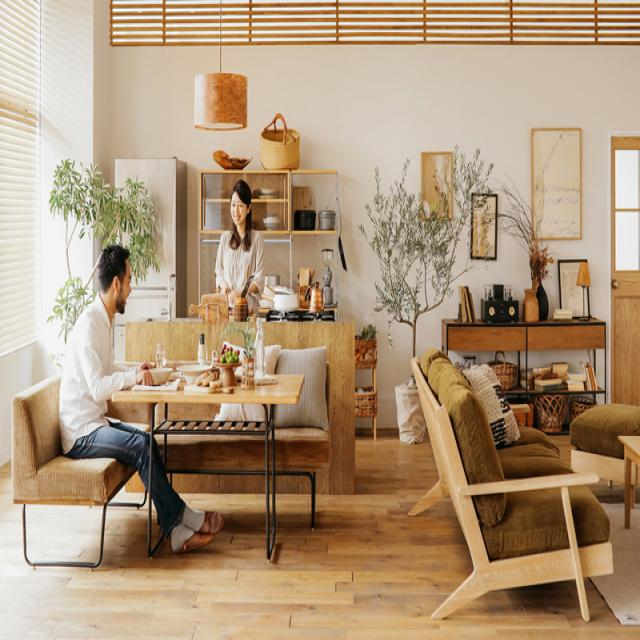vintage desk: (112, 360, 305, 559)
vintage sofa: (408, 348, 614, 629)
